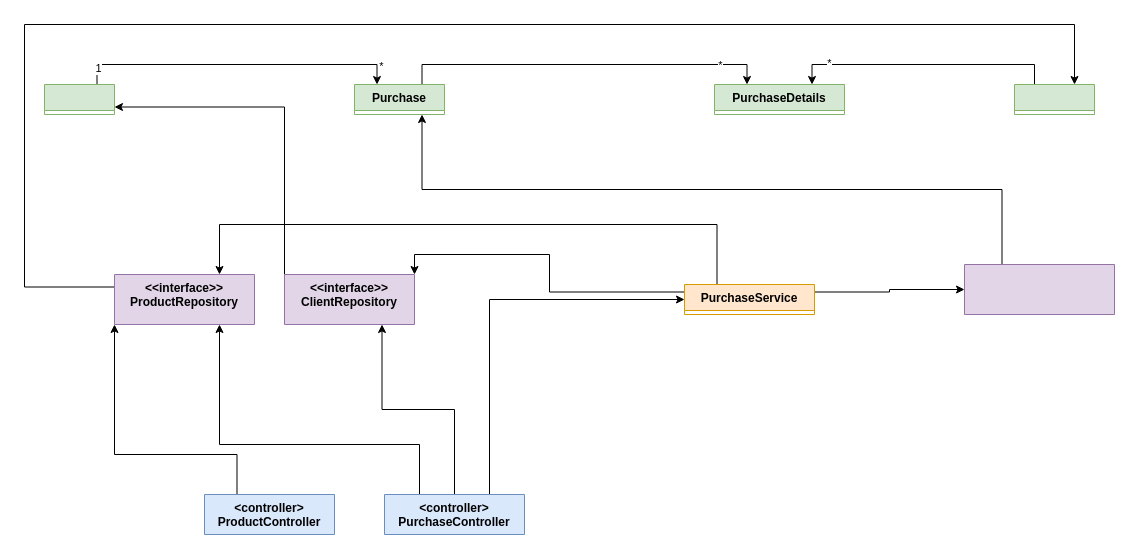
The diagram is 1132 pixels wide and 552 high, and some of its shapes have lost their labels. Each missing label, with the centre of its shape:
<<interface>> PurchaseRepository: the point at 1039,289
Client: the point at 79,99
Product: the point at 1054,99
